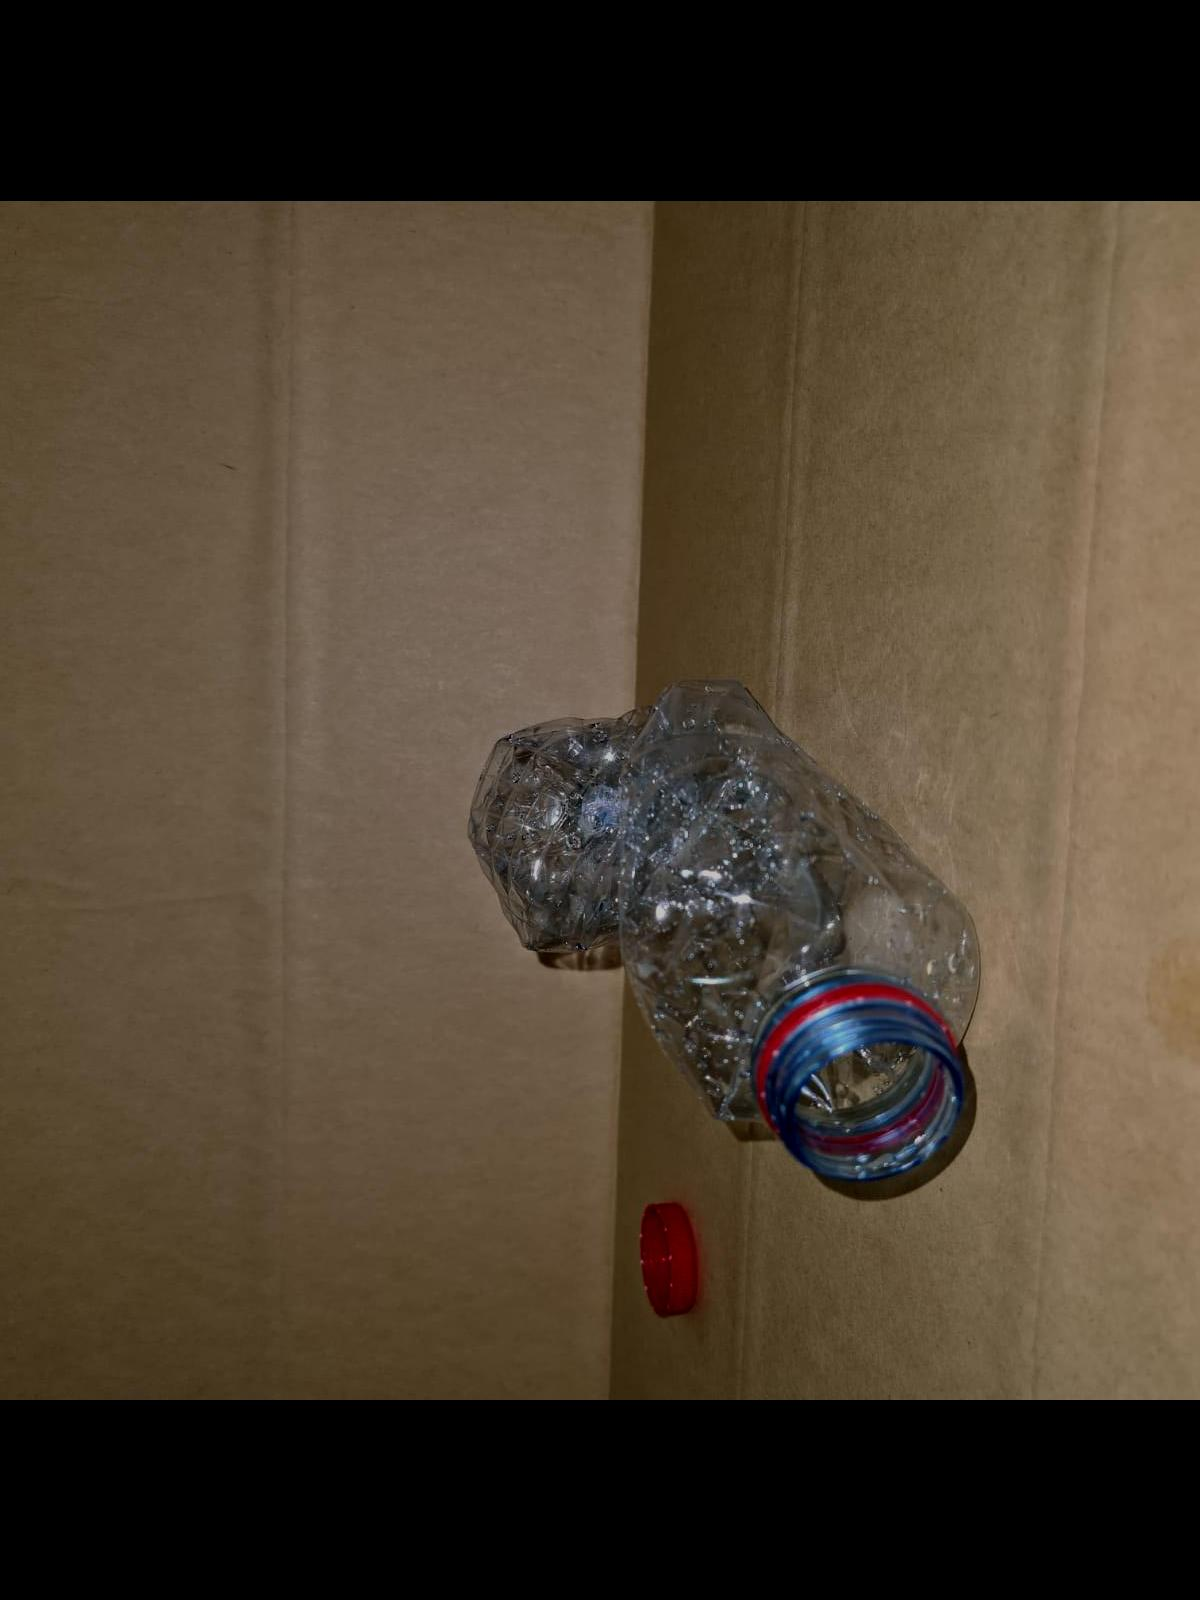bottle: (476, 655, 1017, 1207)
